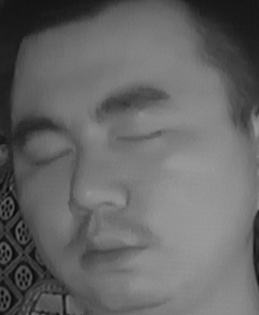blink: (118, 118, 170, 153), (29, 139, 75, 176)
mouth: (67, 220, 150, 275)
